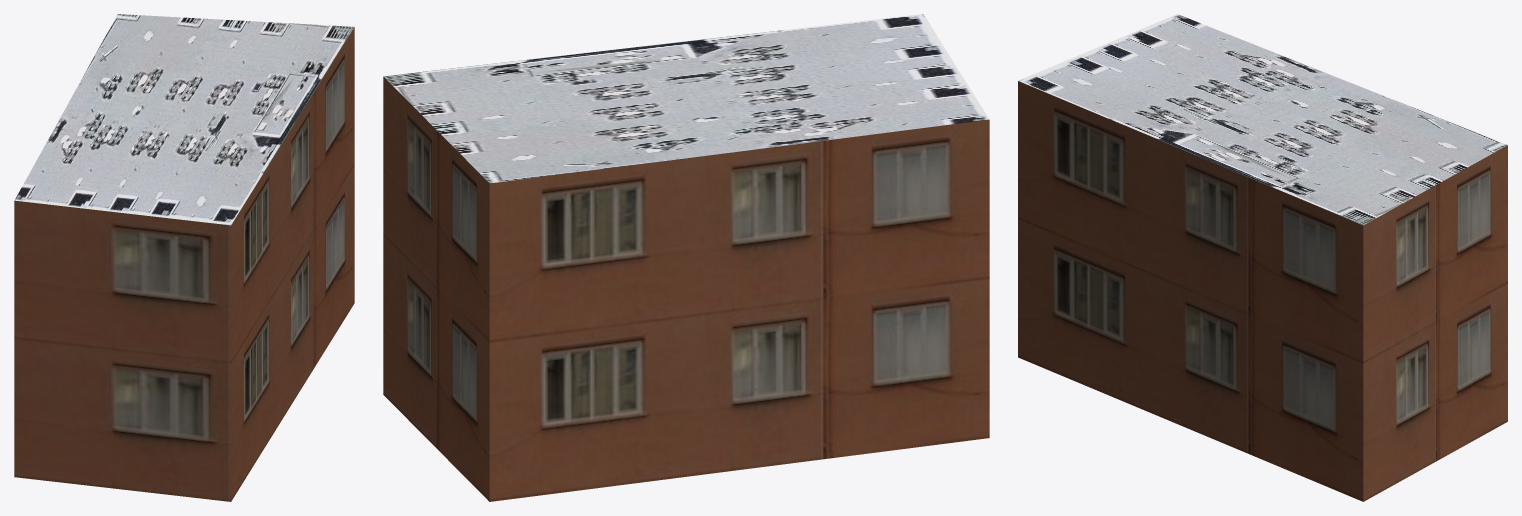
Rendered from ResTex__5210.fbx.
3 renders of one model, left to right at view 1: azimuth 30°, elevation 25°; view 2: azimuth 150°, elevation 25°; view 3: azimuth 270°, elevation 25°, orthographic. The views are drawn at different scales.
Visible parts, largest first — view 1: CityEngineMaterial_20_m, CityEngineMaterial_2_m; view 2: CityEngineMaterial_20_m, CityEngineMaterial_2_m; view 3: CityEngineMaterial_20_m, CityEngineMaterial_2_m.
Boxes of the visible parts, x1=… form: CityEngineMaterial_20_m: x1=14, y1=27, x2=354, y2=501; CityEngineMaterial_2_m: x1=14, y1=14, x2=354, y2=225; CityEngineMaterial_20_m: x1=383, y1=76, x2=989, y2=501; CityEngineMaterial_2_m: x1=384, y1=14, x2=989, y2=183; CityEngineMaterial_20_m: x1=1018, y1=81, x2=1507, y2=501; CityEngineMaterial_2_m: x1=1018, y1=14, x2=1507, y2=225.
Bounding box in the file's own units: 9.84 × 6 × 9.63.
2 materials, 2 textured.
